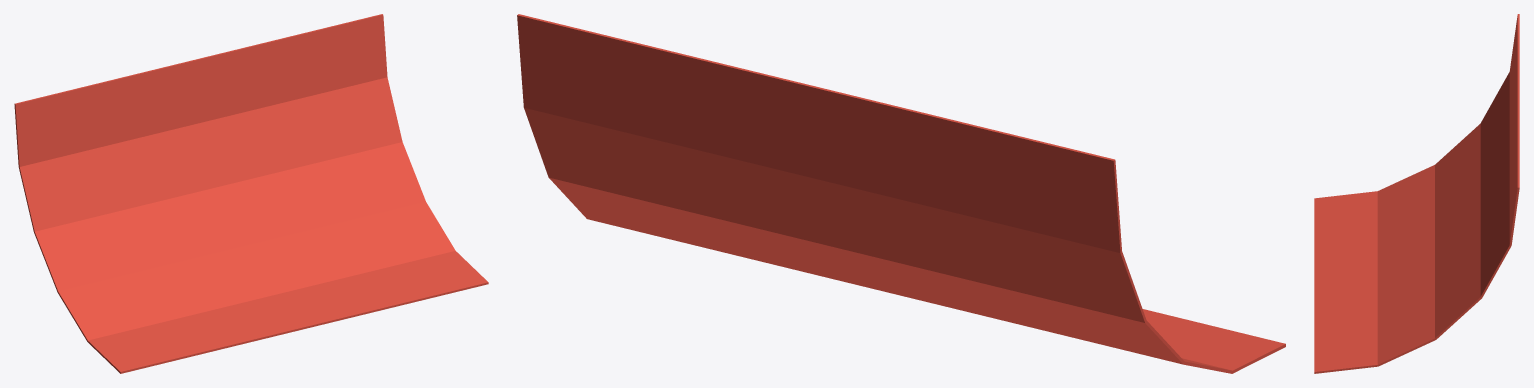
The model's file is SM_Greenscreen_Plane_Edge_2m.fbx.
3 views of the same model, side by side, from view 1: azimuth 30°, elevation 25°; view 2: azimuth 150°, elevation 25°; view 3: azimuth 270°, elevation 25° (orthographic). The views are drawn at different scales.
Visible parts, largest first — view 1: SM_Greenscreen_Plane_Edge_2m; view 2: SM_Greenscreen_Plane_Edge_2m; view 3: SM_Greenscreen_Plane_Edge_2m.
Part boxes in pixels (x1=…): SM_Greenscreen_Plane_Edge_2m: x1=14, y1=14, x2=488, y2=373; SM_Greenscreen_Plane_Edge_2m: x1=517, y1=14, x2=1285, y2=373; SM_Greenscreen_Plane_Edge_2m: x1=1314, y1=14, x2=1519, y2=373.
Size of the model in its own units: 100 by 200 by 100.
